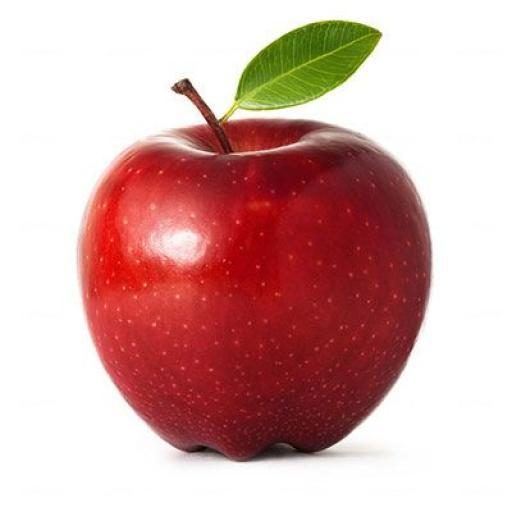apple: (80, 120, 431, 459)
